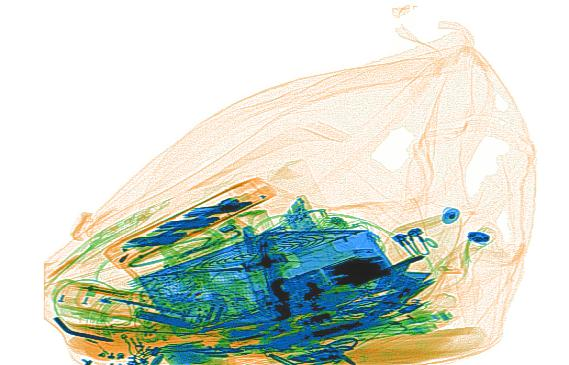battery: (134, 310, 194, 330), (241, 224, 259, 256)
